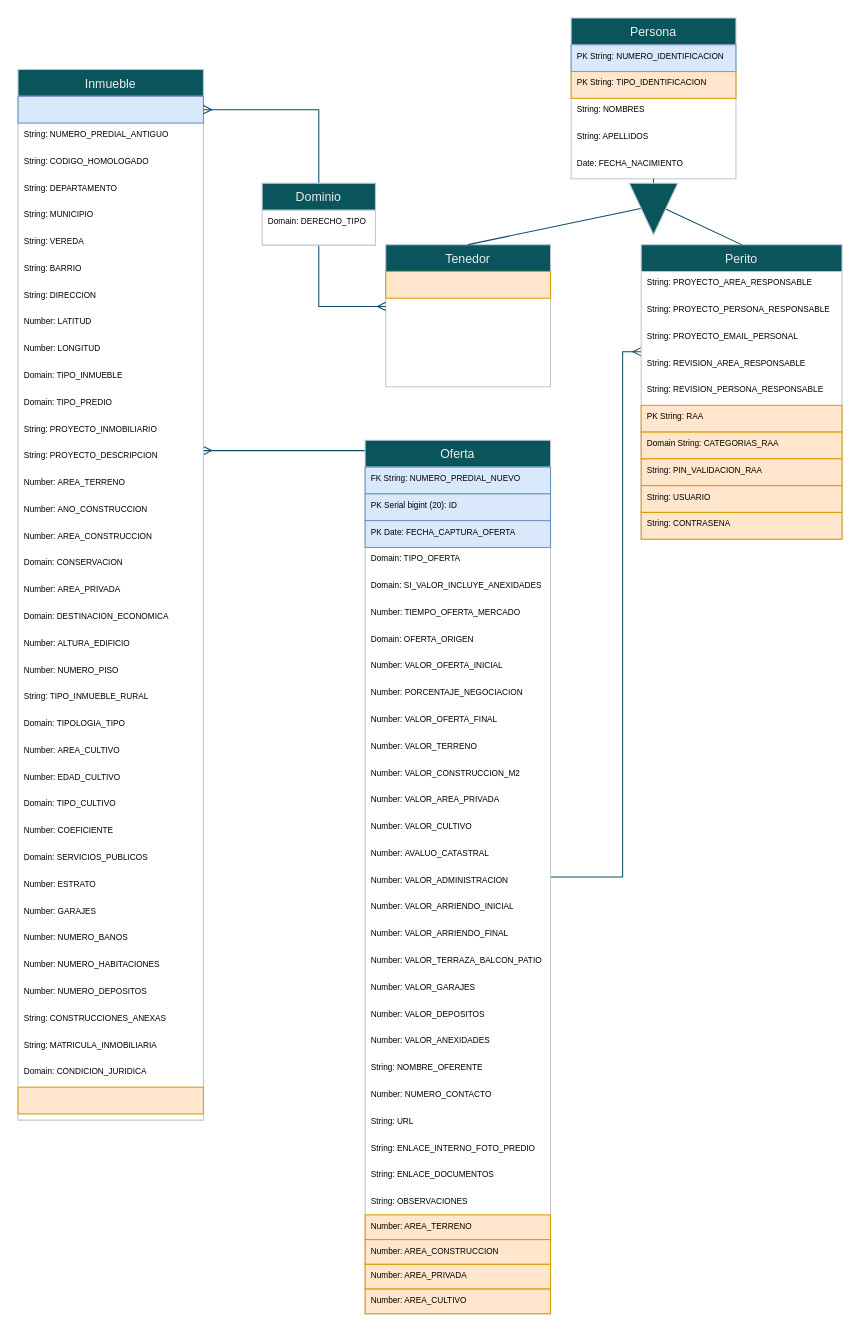
Some shapes in this 860 by 1335 pixel diagram are drawn without their labels. Here are the shapes that lost their labels. From the top down, the centre of each, then its label:
At (x=110, y=109): "PK String: NUMERO_PREDIAL_NUEVO".
At (x=653, y=208): "Es".
At (x=468, y=284): "String: TIPO_PERSONA".
At (x=110, y=1100): "String: CARACTERISTICAS_ESPECIALES".
